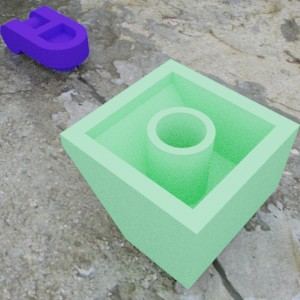lego: (59, 59, 299, 289), (0, 5, 89, 70)
